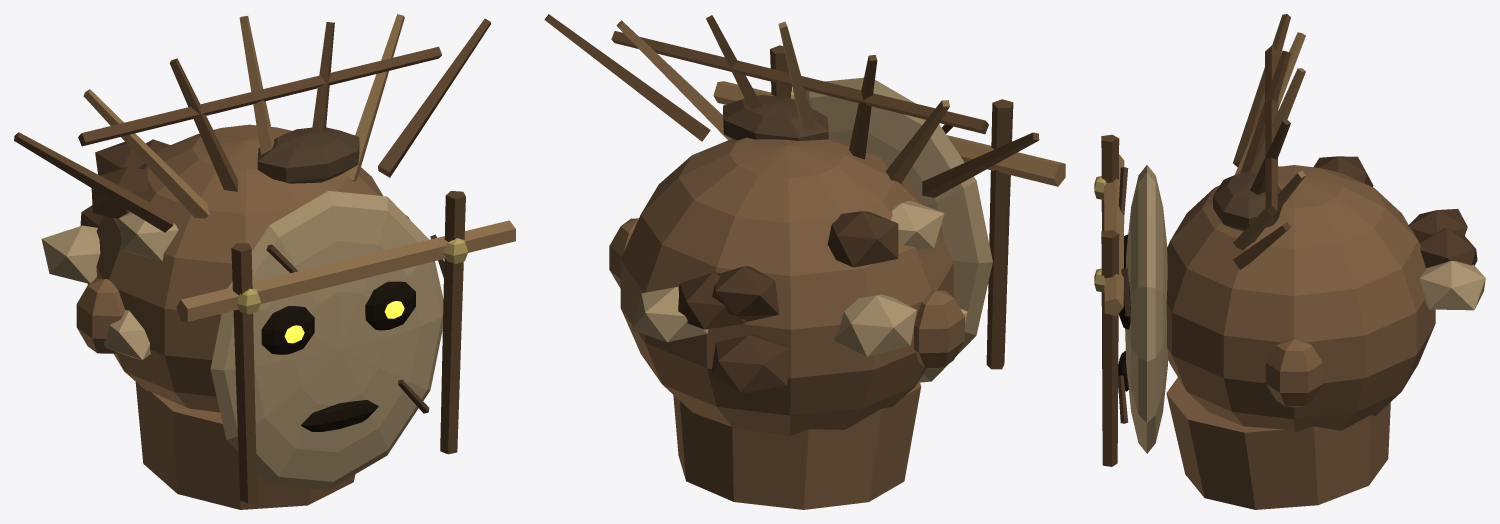
File: mudfolk_head.glb
The picture shows the model from 3 angles, left to right: view 1: azimuth 30°, elevation 25°; view 2: azimuth 150°, elevation 25°; view 3: azimuth 270°, elevation 25°; orthographic projection. The views are drawn at different scales.
Visible parts, largest first — view 1: mudfolk_head; view 2: mudfolk_head; view 3: mudfolk_head.
Boxes of the visible parts, <box> form: mudfolk_head: <box>14,14,515,509</box>; mudfolk_head: <box>544,14,1065,509</box>; mudfolk_head: <box>1094,14,1485,509</box>.
Size of the model in its own units: 1.33 by 1.19 by 1.04.
